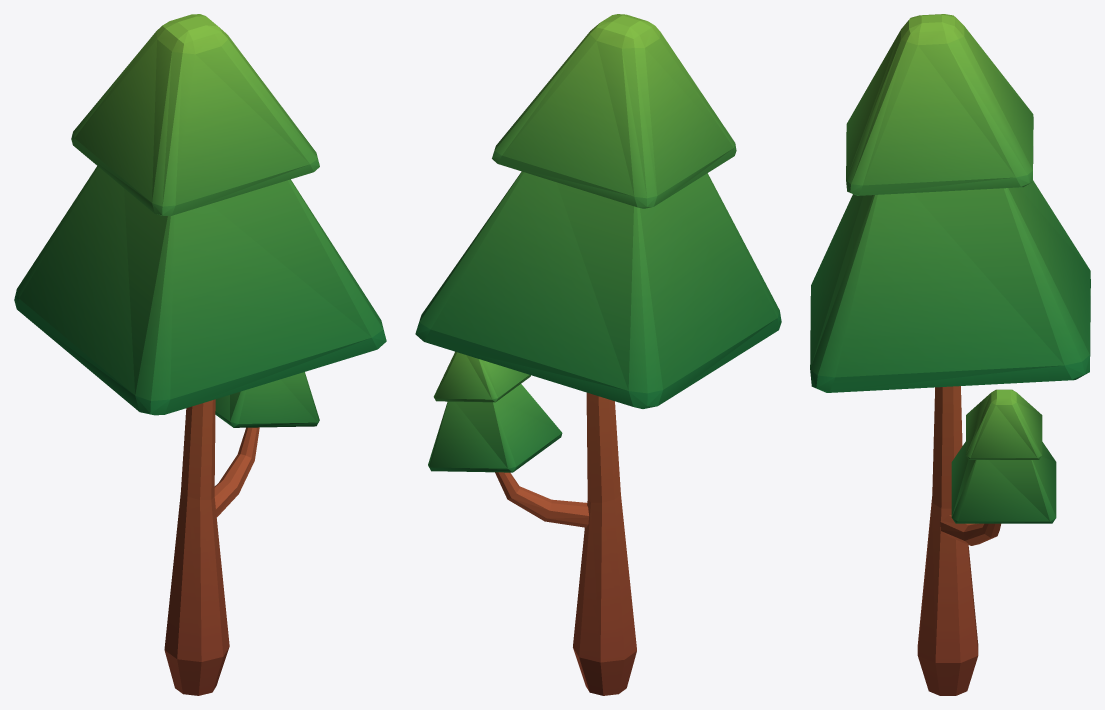
The model's file is kf_tree_4_a.fbx.
The picture shows the model from 3 angles, left to right: view 1: azimuth 30°, elevation 25°; view 2: azimuth 150°, elevation 25°; view 3: azimuth 270°, elevation 25°; orthographic projection.
Visible parts, largest first — view 1: kf_tree_4_a_LOD0; view 2: kf_tree_4_a_LOD0; view 3: kf_tree_4_a_LOD0.
Part boxes in pixels (box(x1,y1,x2,y2)): kf_tree_4_a_LOD0: box(14, 14, 386, 695); kf_tree_4_a_LOD0: box(415, 14, 781, 695); kf_tree_4_a_LOD0: box(810, 14, 1090, 695).
Size of what is drawn, in the model's own units: 2.31 by 6.07 by 2.31.
1 material, 1 textured.
